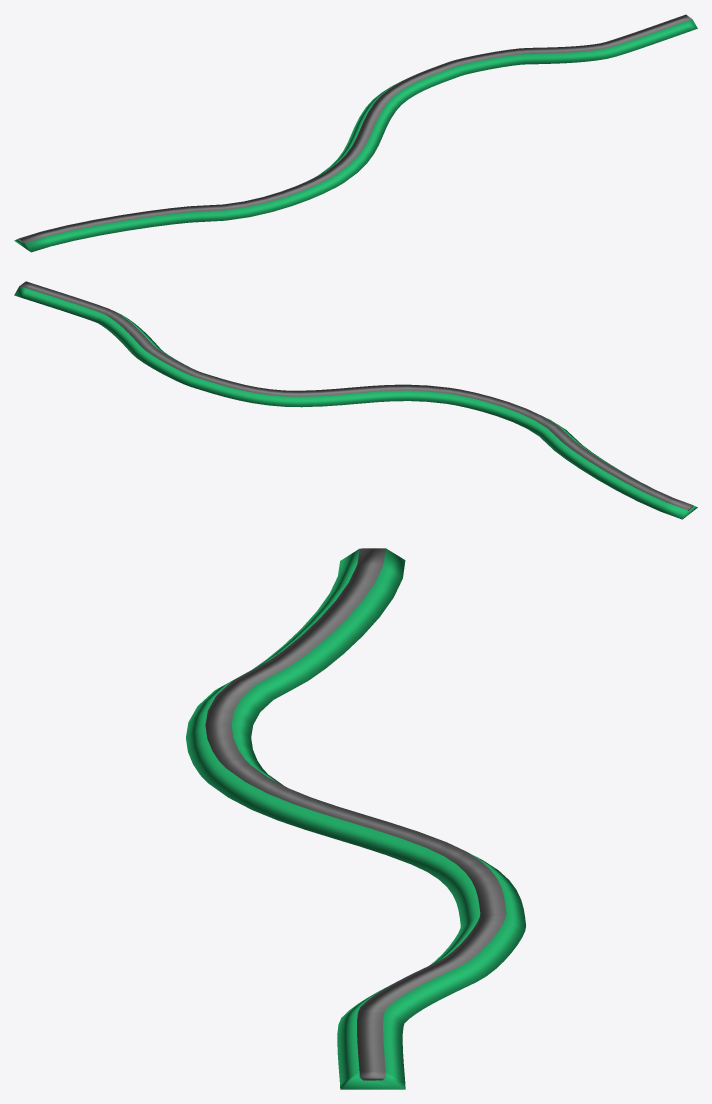
3 renders of one model, top to bottom at view 1: azimuth 30°, elevation 25°; view 2: azimuth 150°, elevation 25°; view 3: azimuth 270°, elevation 25°, orthographic. The views are drawn at different scales.
Visible parts, largest first — view 1: HillCurve, GroundCurve; view 2: HillCurve, GroundCurve; view 3: HillCurve, GroundCurve.
Boxes of the visible parts, x1=… form: HillCurve: x1=14, y1=19, x2=697, y2=252; GroundCurve: x1=18, y1=14, x2=691, y2=243; HillCurve: x1=14, y1=286, x2=697, y2=519; GroundCurve: x1=20, y1=281, x2=693, y2=510; HillCurve: x1=186, y1=548, x2=525, y2=1089; GroundCurve: x1=205, y1=548, x2=506, y2=1080.
Size of what is drawn, in the model's own units: 4719 by 452 by 1041.
